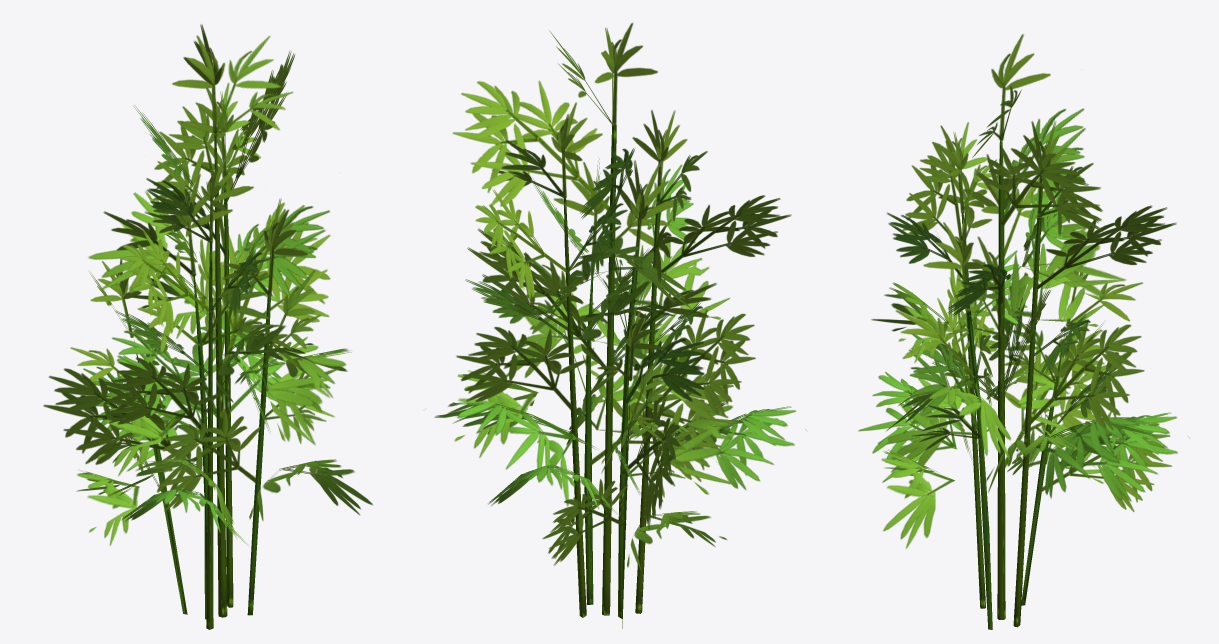
3 renders of one model, left to right at view 1: azimuth 30°, elevation 25°; view 2: azimuth 150°, elevation 25°; view 3: azimuth 270°, elevation 25°, orthographic. The views are drawn at different scales.
Visible parts, largest first — view 1: bamboo1obj; view 2: bamboo1obj; view 3: bamboo1obj.
Part boxes in pixels (x1=…): bamboo1obj: x1=43, y1=24, x2=372, y2=629; bamboo1obj: x1=434, y1=22, x2=806, y2=628; bamboo1obj: x1=858, y1=34, x2=1188, y2=629.
Bounding box in the file's own units: 24.13 × 43.74 × 24.34.
Materials: 1 (1 with a texture image).
